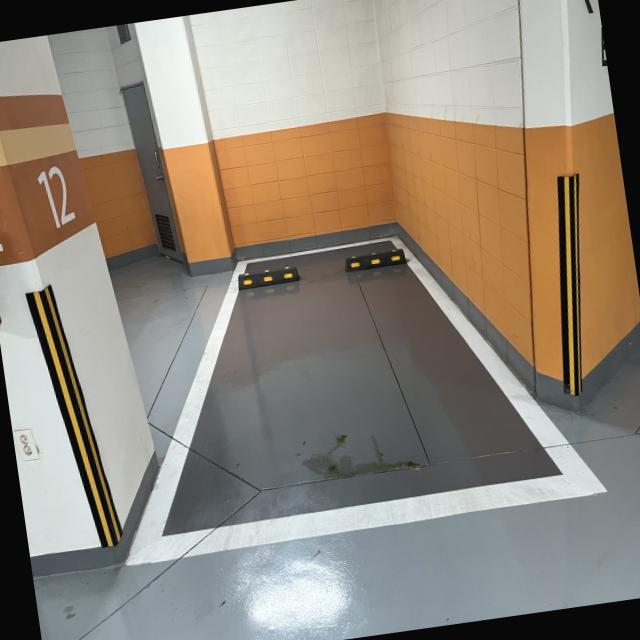free: (111, 227, 626, 574)
